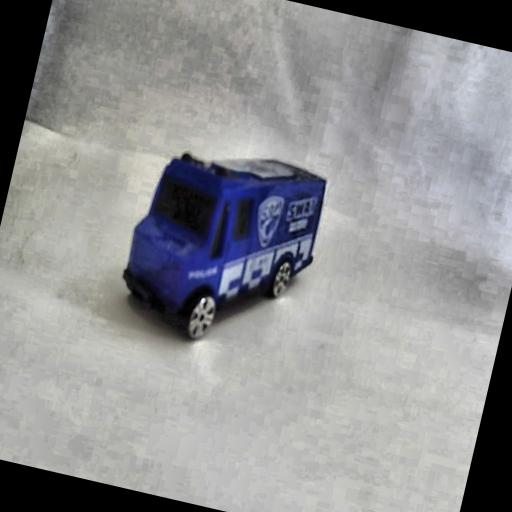police car: (110, 128, 339, 369)
